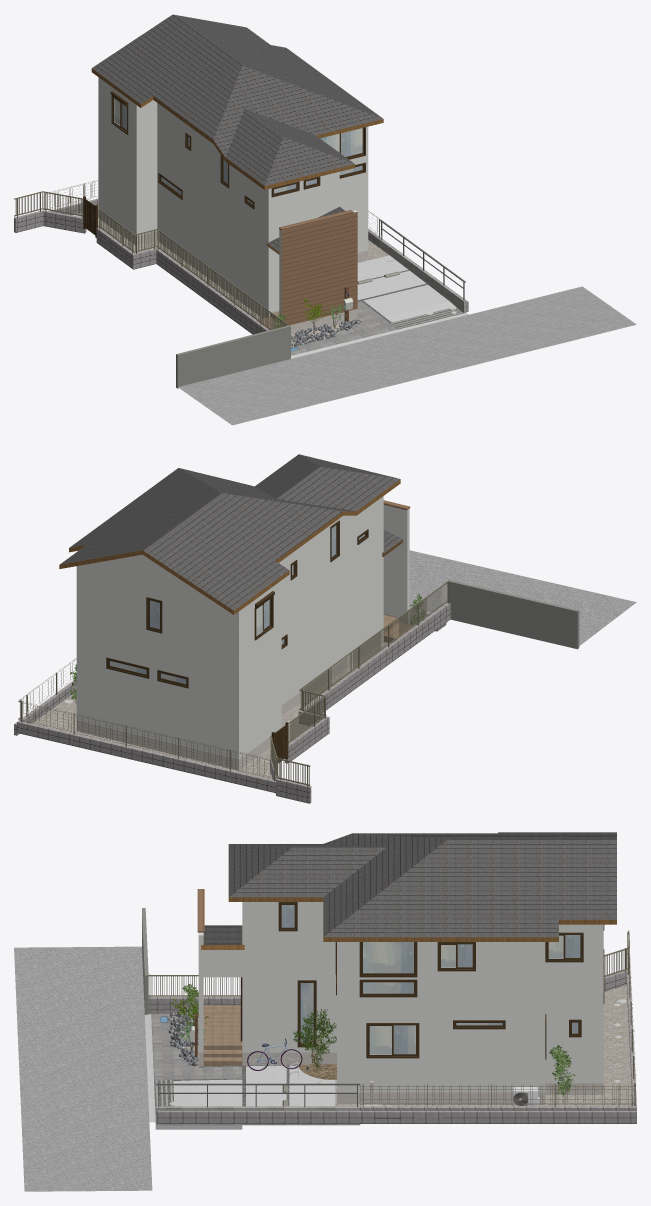
3 renders of one model, top to bottom at view 1: azimuth 30°, elevation 25°; view 2: azimuth 150°, elevation 25°; view 3: azimuth 270°, elevation 25°, orthographic. The views are drawn at different scales.
Parts seen in each view (by area): view 1: ﾒｯｼｭ-001, 屋根-004.002, 壁-018, 壁-007, 屋根-004.004, 屋根-004.003, 壁-042, 壁-007.002, 屋根-004.005, 壁-008.001, 壁-005, 屋根-004.001 (+25 smaller); view 2: 壁-004.001, 屋根-004.002, 壁-004, 壁-007, ﾒｯｼｭ-001, 屋根-004.003, 壁-042, 壁-049, 屋根-004.005, 壁-005, ｽﾗﾌﾞ-010, ｵﾌﾞｼﾞｪｸﾄ-007 (+19 smaller); view 3: ﾒｯｼｭ-001, 屋根-004.003, 壁-011, 壁-011.001, 壁-009, 壁-041, 壁-009.002, 屋根-004, 屋根-004.004, 壁-013.001, ﾒｯｼｭ-008, ｽﾗﾌﾞ-010 (+32 smaller).
Part boxes in pixels (x1,y1,x2,y2): ﾒｯｼｭ-001: [178, 286, 636, 425]; 屋根-004.002: [91, 14, 242, 143]; 壁-018: [279, 210, 357, 326]; 壁-007: [157, 164, 268, 312]; 屋根-004.004: [213, 65, 383, 160]; 屋根-004.003: [173, 14, 382, 118]; 壁-042: [176, 325, 290, 388]; 壁-007.002: [157, 103, 216, 207]; 屋根-004.005: [225, 108, 283, 189]; 壁-008.001: [268, 172, 339, 242]; 壁-005: [98, 142, 136, 235]; 屋根-004.001: [264, 137, 354, 189]; 壁-004.001: [76, 554, 238, 684]; 屋根-004.002: [142, 493, 343, 614]; 壁-004: [76, 645, 238, 759]; 壁-007: [281, 556, 383, 704]; ﾒｯｼｭ-001: [409, 550, 636, 645]; 屋根-004.003: [59, 468, 220, 568]; 壁-042: [447, 580, 579, 649]; 壁-049: [17, 722, 276, 792]; 屋根-004.005: [277, 467, 400, 515]; 壁-005: [239, 653, 281, 759]; ｽﾗﾌﾞ-010: [76, 631, 383, 770]; ｵﾌﾞｼﾞｪｸﾄ-007: [299, 580, 450, 709]; ﾒｯｼｭ-001: [14, 946, 152, 1191]; 屋根-004.003: [323, 839, 616, 941]; 壁-011: [337, 1011, 545, 1092]; 壁-011.001: [337, 942, 545, 1011]; 壁-009: [242, 971, 336, 1052]; 壁-041: [157, 1111, 636, 1123]; 壁-009.002: [242, 902, 335, 971]; 屋根-004: [228, 847, 385, 901]; 屋根-004.004: [323, 833, 447, 936]; 壁-013.001: [545, 1002, 603, 1083]; ﾒｯｼｭ-008: [335, 985, 632, 1106]; ｽﾗﾌﾞ-010: [242, 1052, 603, 1104].
Bounding box in the file's own units: 17.95 × 7.98 × 19.49.
Materials: 59 (39 with a texture image).
